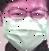with_mask: (2, 2, 49, 51)
